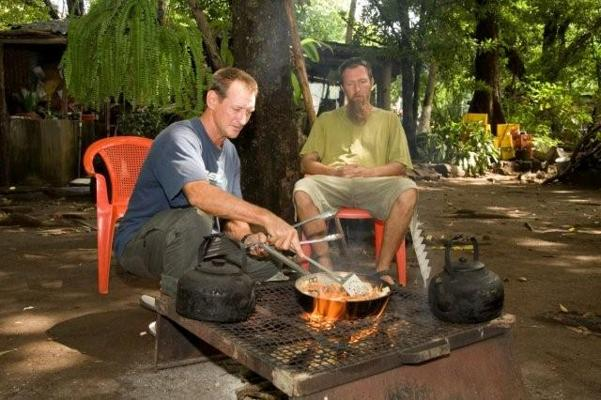person: (114, 68, 312, 300)
